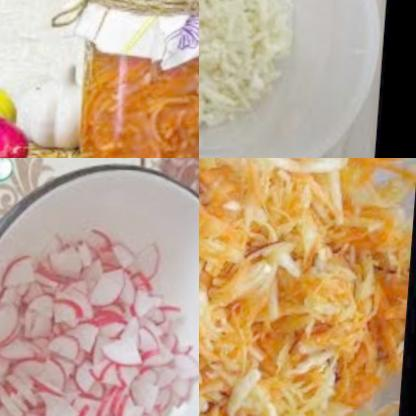cabbage: (199, 0, 296, 131), (244, 342, 343, 416), (232, 238, 306, 321), (266, 158, 361, 213)
carrot: (343, 269, 412, 411), (199, 181, 240, 259), (199, 294, 232, 357), (354, 158, 416, 187), (199, 158, 256, 186)
rediska: (0, 210, 199, 416), (0, 113, 38, 158)
squash-patisson: (12, 57, 93, 153), (0, 53, 31, 150)
